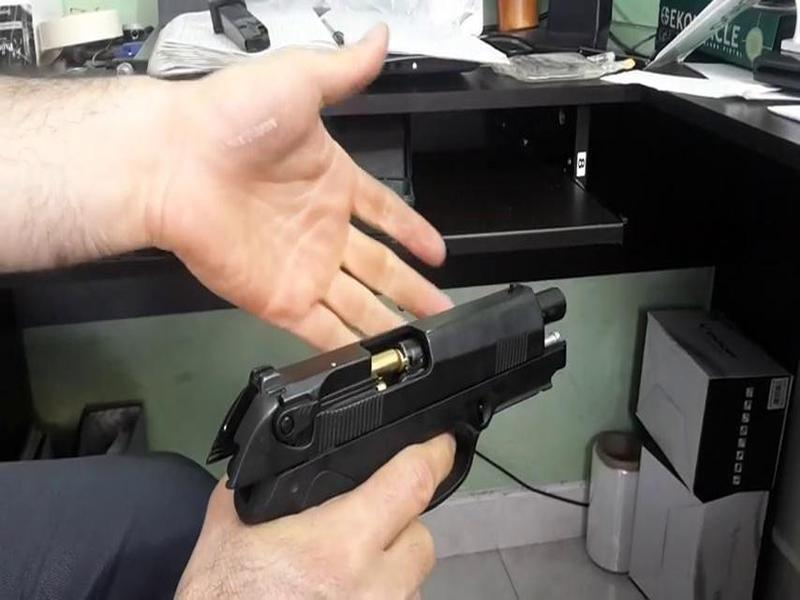Pistola: (201, 285, 577, 513)
